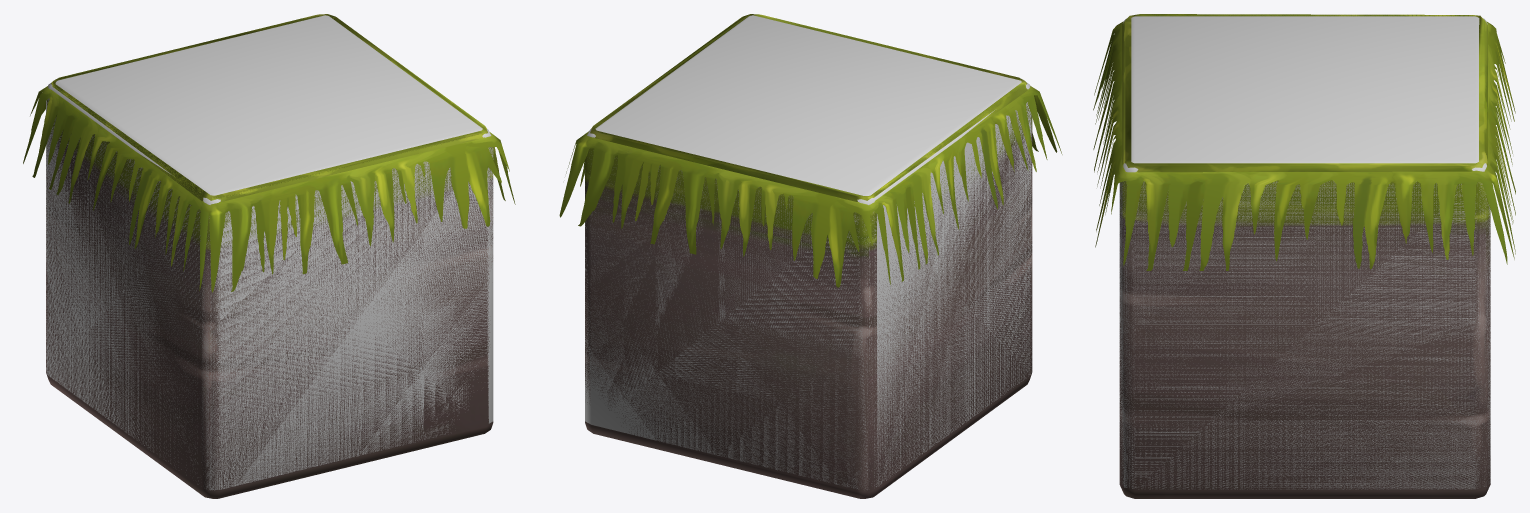
Rendered from Terrain.fbx.
3 views of the same model, side by side, from view 1: azimuth 30°, elevation 25°; view 2: azimuth 150°, elevation 25°; view 3: azimuth 270°, elevation 25° (orthographic). The views are drawn at different scales.
Parts seen in each view (by area): view 1: Cliff, Grass_02, Sand, Grass_01; view 2: Grass_02, Sand, Cliff, Grass_01; view 3: Grass_02, Sand, Cliff, Grass_01.
Part boxes in pixels (x1=…): Cliff: x1=47, y1=16, x2=493, y2=489; Grass_02: x1=46, y1=14, x2=493, y2=498; Sand: x1=46, y1=15, x2=493, y2=490; Grass_01: x1=23, y1=17, x2=515, y2=487; Grass_02: x1=585, y1=14, x2=1032, y2=498; Sand: x1=585, y1=15, x2=1032, y2=489; Cliff: x1=585, y1=15, x2=1031, y2=488; Grass_01: x1=559, y1=86, x2=1062, y2=287; Grass_02: x1=1119, y1=14, x2=1490, y2=498; Sand: x1=1119, y1=16, x2=1490, y2=489; Cliff: x1=1119, y1=16, x2=1490, y2=489; Grass_01: x1=1093, y1=14, x2=1515, y2=482.
Size of the model in its own units: 1.14 by 1.01 by 1.14.
